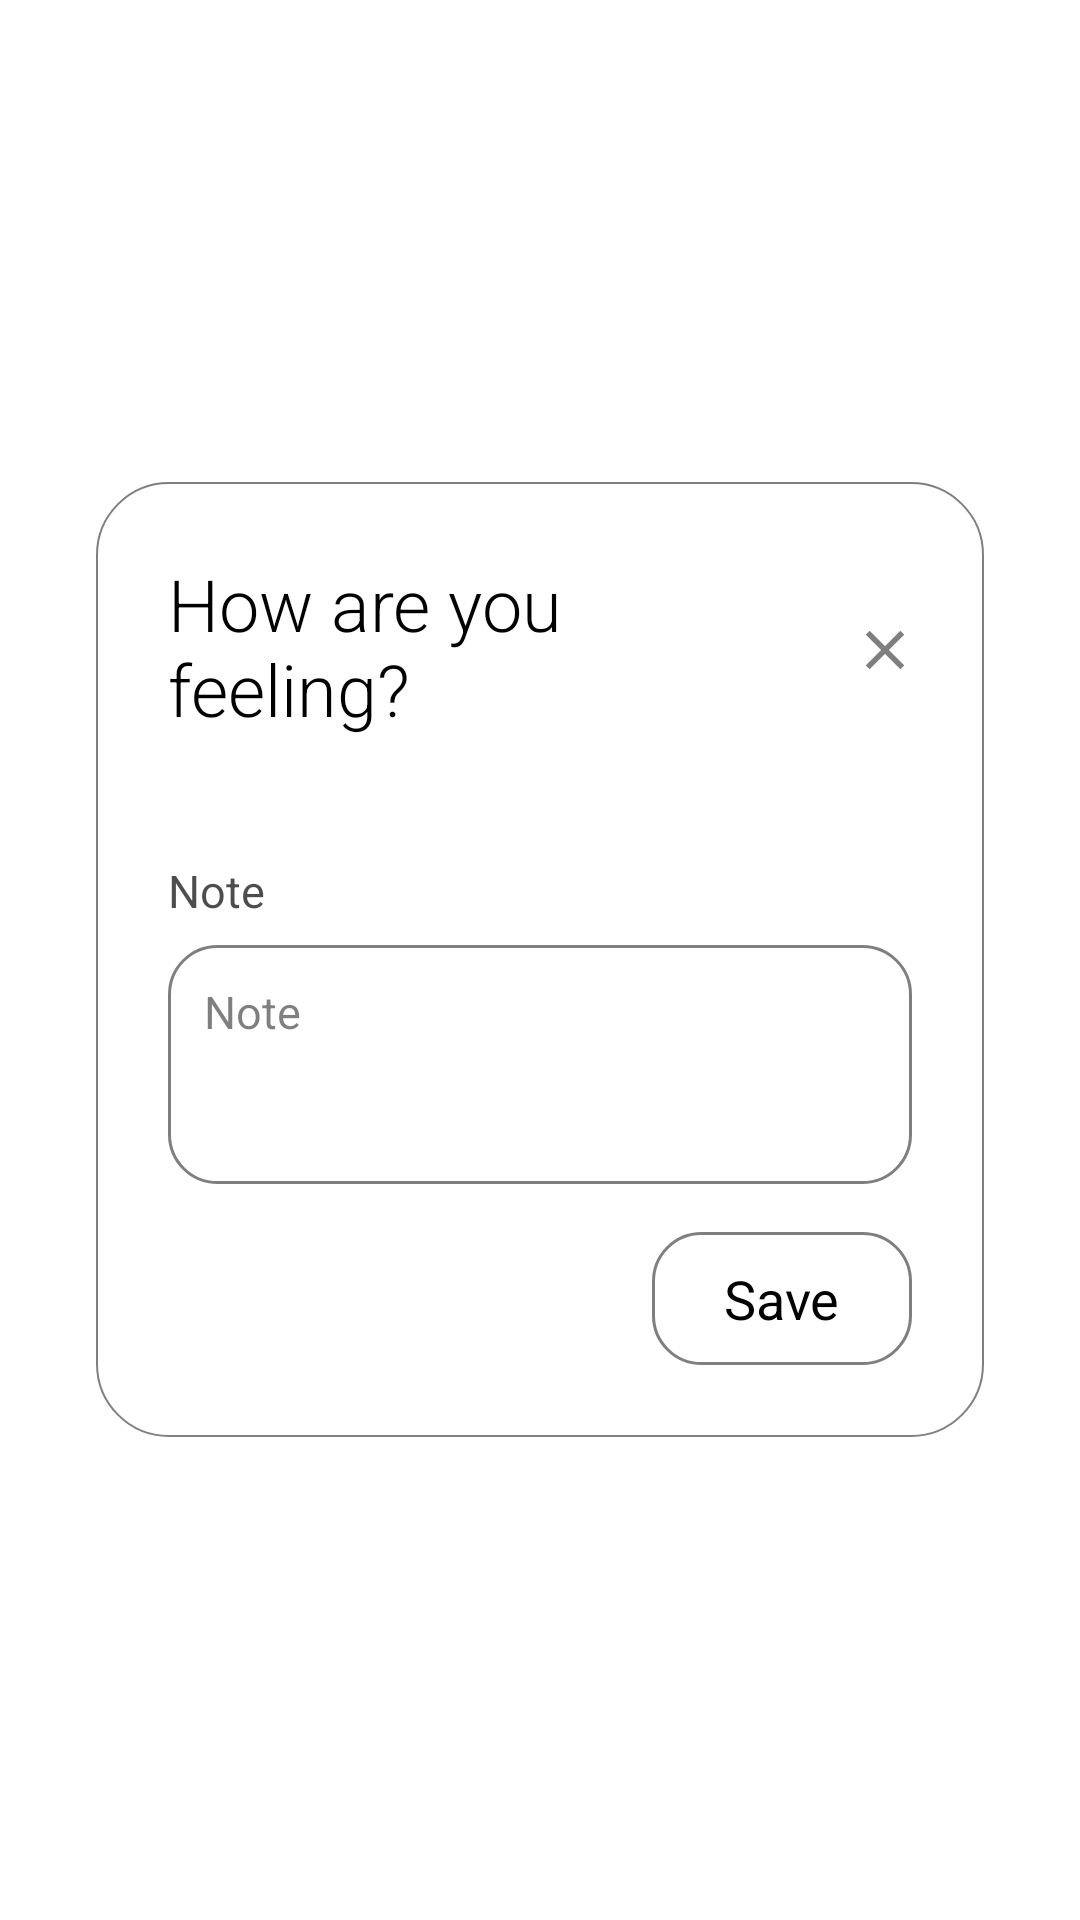

Icon click points for this 1080px x 1920px phone screenshot, format [x,y]:
Close: [885,650]
